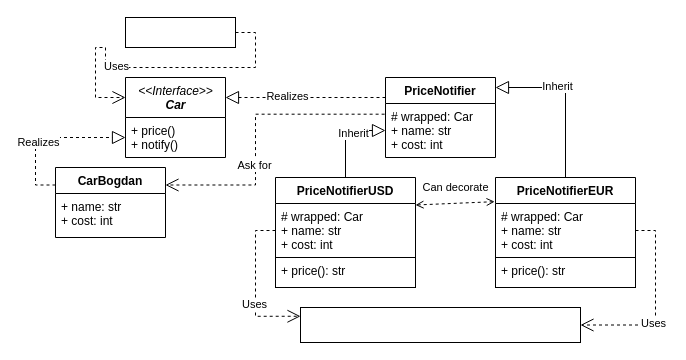
This 686x360 diagram has some shape labels left out. Each missing label, with the centre of its shape:
Client: (x=180, y=32)
def exchange_rates_for_uah(currency): (x=440, y=324)
